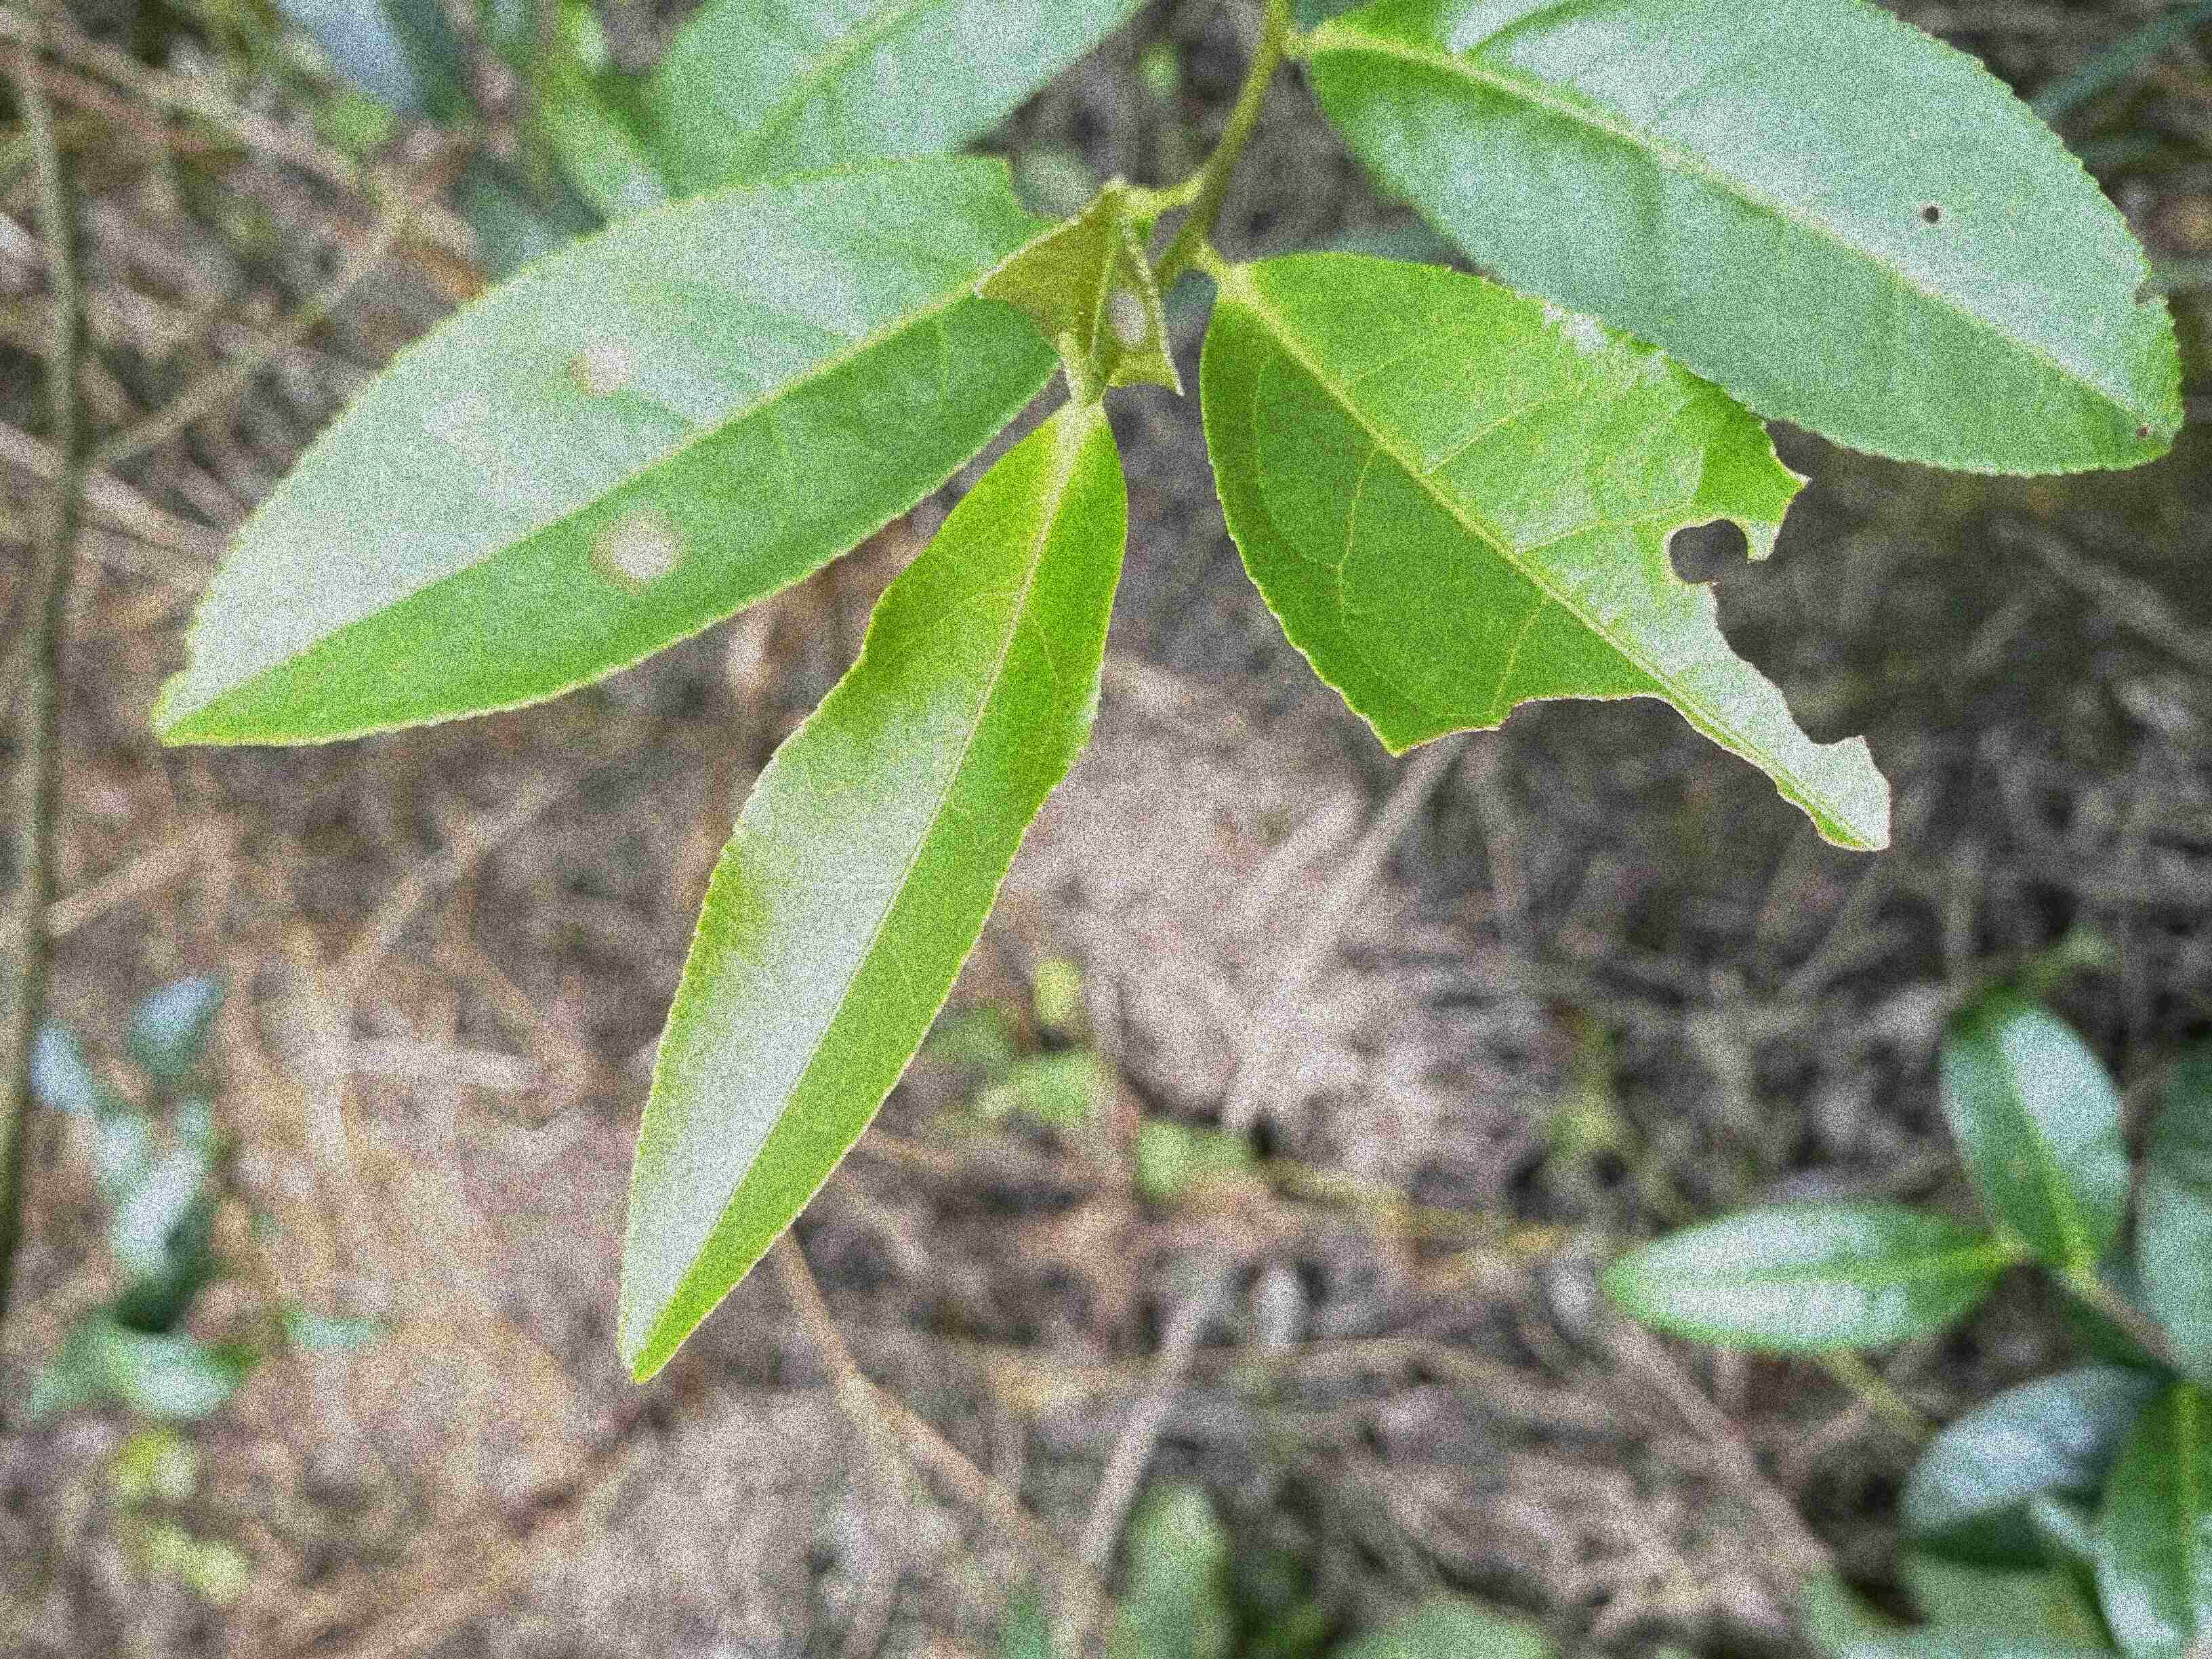chabing_high: (150, 155, 1062, 748)
chabing_low: (977, 176, 1186, 394)
chihuo_high: (1198, 249, 1895, 854)
chihuo_low: (1299, 3, 2186, 479)
healthy: (615, 399, 1125, 1380)
